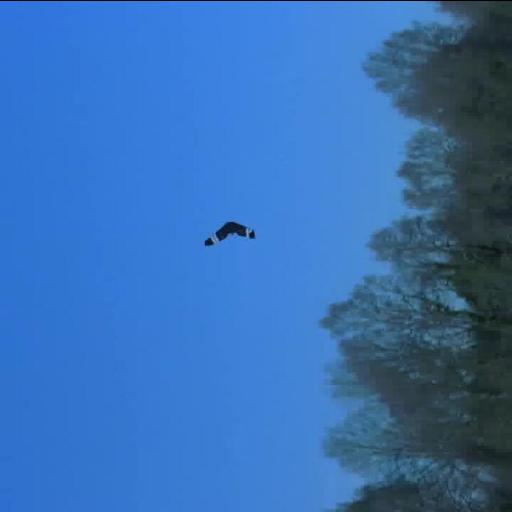uav: (198, 217, 266, 252)
